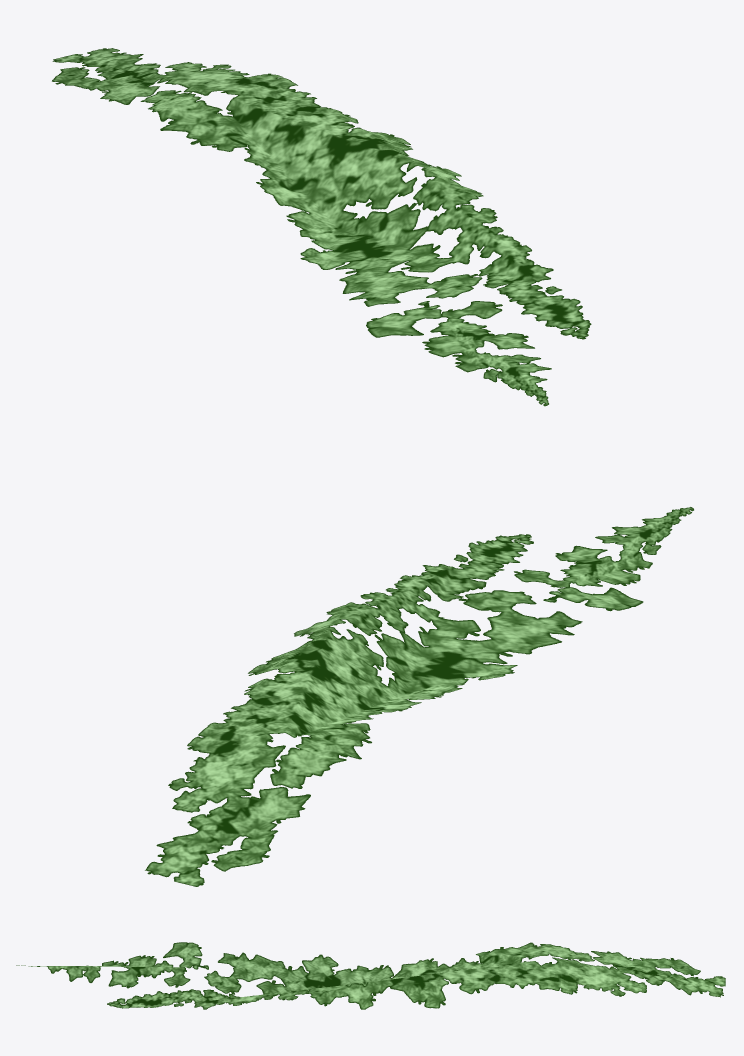
The model's file is SM_Vines01.fbx.
3 renders of one model, top to bottom at view 1: azimuth 30°, elevation 25°; view 2: azimuth 150°, elevation 25°; view 3: azimuth 270°, elevation 25°, orthographic. The views are drawn at different scales.
Visible parts, largest first — view 1: SM_Vines01; view 2: SM_Vines01; view 3: SM_Vines01.
Boxes of the visible parts, x1,y1,x2,y2 form: SM_Vines01: (52,48,591,406); SM_Vines01: (145,507,693,886); SM_Vines01: (16,942,725,1009).
Size of the model in its own units: 93.19 by 285 by 17.47.
